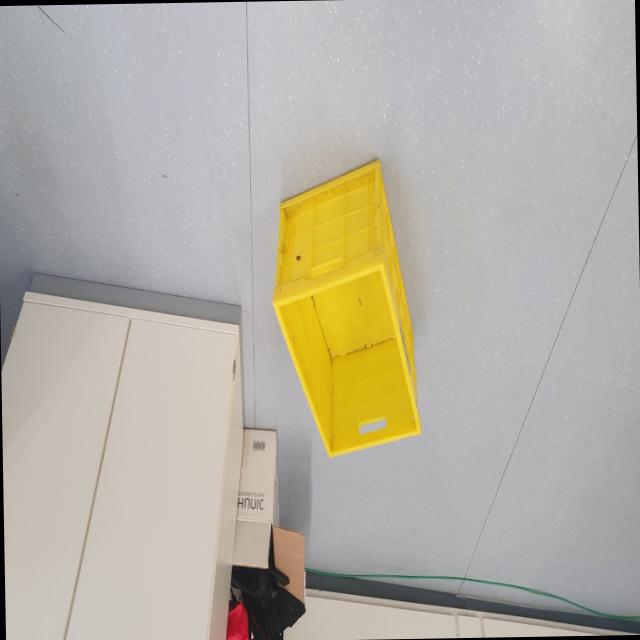box: (262, 152, 424, 475)
